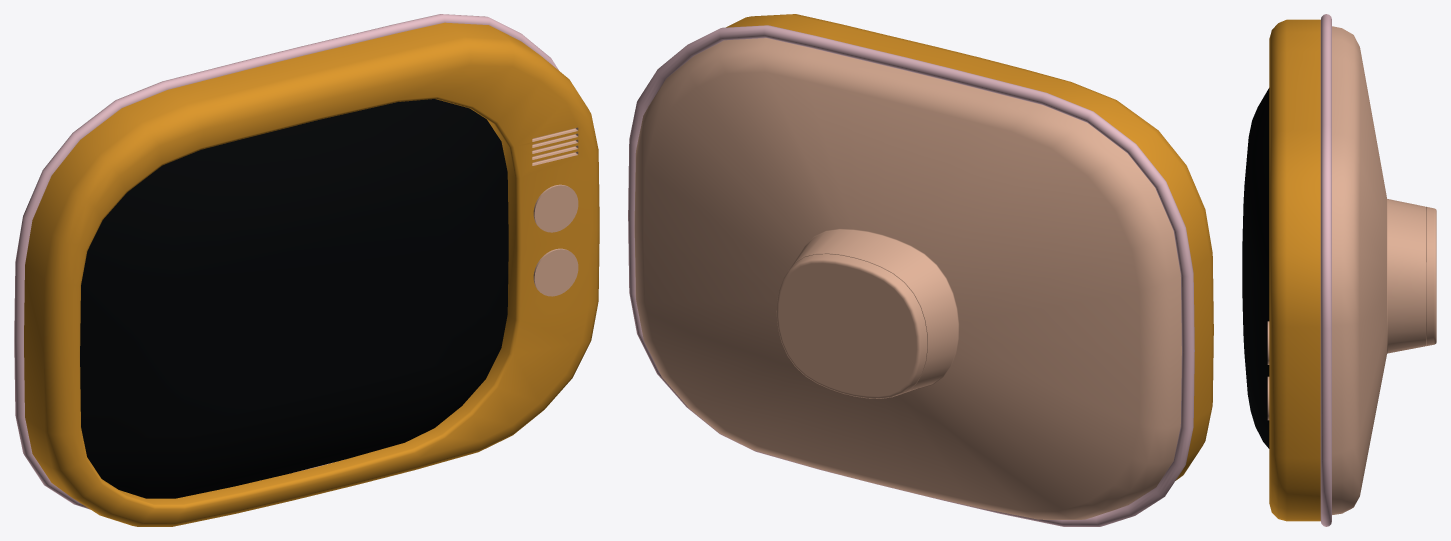
The model's file is tvsmall.glb.
The picture shows the model from 3 angles, left to right: view 1: azimuth 30°, elevation 25°; view 2: azimuth 150°, elevation 25°; view 3: azimuth 270°, elevation 25°; orthographic projection. The views are drawn at different scales.
Parts seen in each view (by area): view 1: Cube.004, Cube, Cube.002_Curve, Cylinder.003, Cylinder; view 2: Cube, Cube.002_Curve; view 3: Cube, Cube.004, Cube.002_Curve.
Part boxes in pixels (x1=…): Cube.004: x1=80, y1=99, x2=508, y2=498; Cube: x1=24, y1=22, x2=599, y2=526; Cube.002_Curve: x1=14, y1=14, x2=558, y2=509; Cylinder.003: x1=533, y1=248, x2=578, y2=296; Cylinder: x1=533, y1=184, x2=578, y2=232; Cube: x1=634, y1=14, x2=1213, y2=519; Cube.002_Curve: x1=628, y1=25, x2=1194, y2=526; Cube: x1=1269, y1=19, x2=1436, y2=521; Cube.004: x1=1242, y1=88, x2=1269, y2=448; Cube.002_Curve: x1=1320, y1=14, x2=1331, y2=526.
Size of the model in its own units: 3.2 by 2.34 by 1.1.
